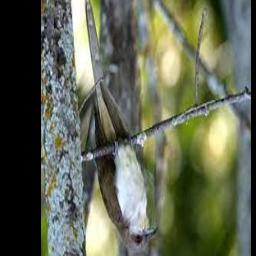Cuckoo: (85, 0, 159, 253)
